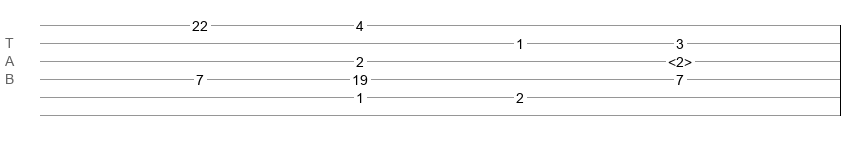1: (356, 90, 364, 100), (516, 36, 524, 46)
19: (352, 72, 368, 82)
2: (356, 54, 364, 64), (516, 90, 524, 100)
22: (192, 18, 208, 28)
3: (676, 36, 684, 46)
4: (356, 18, 364, 28)
7: (196, 72, 204, 82), (676, 72, 684, 82)
harmonic: (668, 54, 692, 64)
